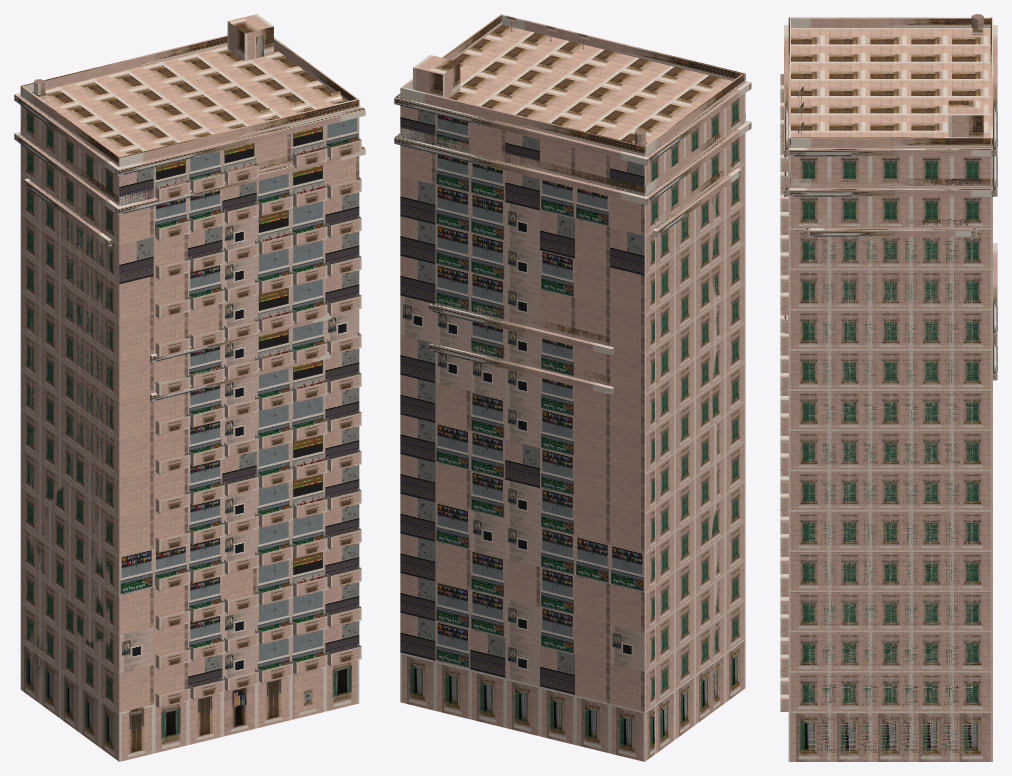
3 renders of one model, left to right at view 1: azimuth 30°, elevation 25°; view 2: azimuth 150°, elevation 25°; view 3: azimuth 270°, elevation 25°, orthographic. The views are drawn at different scales.
Parts seen in each view (by area): view 1: Khedivial_7x5_f13_v1, Khedivial_7x5_f14_v0, Khedivial_7x4_f12_v1, Khedivial_5x5_f8_v1, Khedivial_5x5_f9_v0; view 2: Khedivial_7x5_f13_v1, Khedivial_7x5_f14_v0, Khedivial_7x4_f12_v1, Khedivial_5x5_f9_v0, Khedivial_5x5_f8_v1; view 3: Khedivial_7x5_f13_v1, Khedivial_7x4_f12_v1, Khedivial_7x5_f14_v0, Khedivial_5x5_f9_v0.
Boxes of the visible parts, x1,y1,x2,y2 form: Khedivial_7x5_f13_v1: (14,125,365,761); Khedivial_7x5_f14_v0: (14,14,365,708); Khedivial_7x4_f12_v1: (24,171,111,736); Khedivial_5x5_f8_v1: (150,342,331,699); Khedivial_5x5_f9_v0: (150,303,331,362); Khedivial_7x5_f13_v1: (394,113,751,761); Khedivial_7x5_f14_v0: (394,14,751,195); Khedivial_7x4_f12_v1: (652,162,741,753); Khedivial_5x5_f9_v0: (429,296,613,355); Khedivial_5x5_f8_v1: (429,337,613,394); Khedivial_7x5_f13_v1: (780,156,997,761); Khedivial_7x4_f12_v1: (804,219,977,761); Khedivial_7x5_f14_v0: (780,14,997,711); Khedivial_5x5_f9_v0: (784,243,997,340).
Bounding box in the file's own units: 25.3 × 60.7 × 18.6.
1 material, 1 textured.
